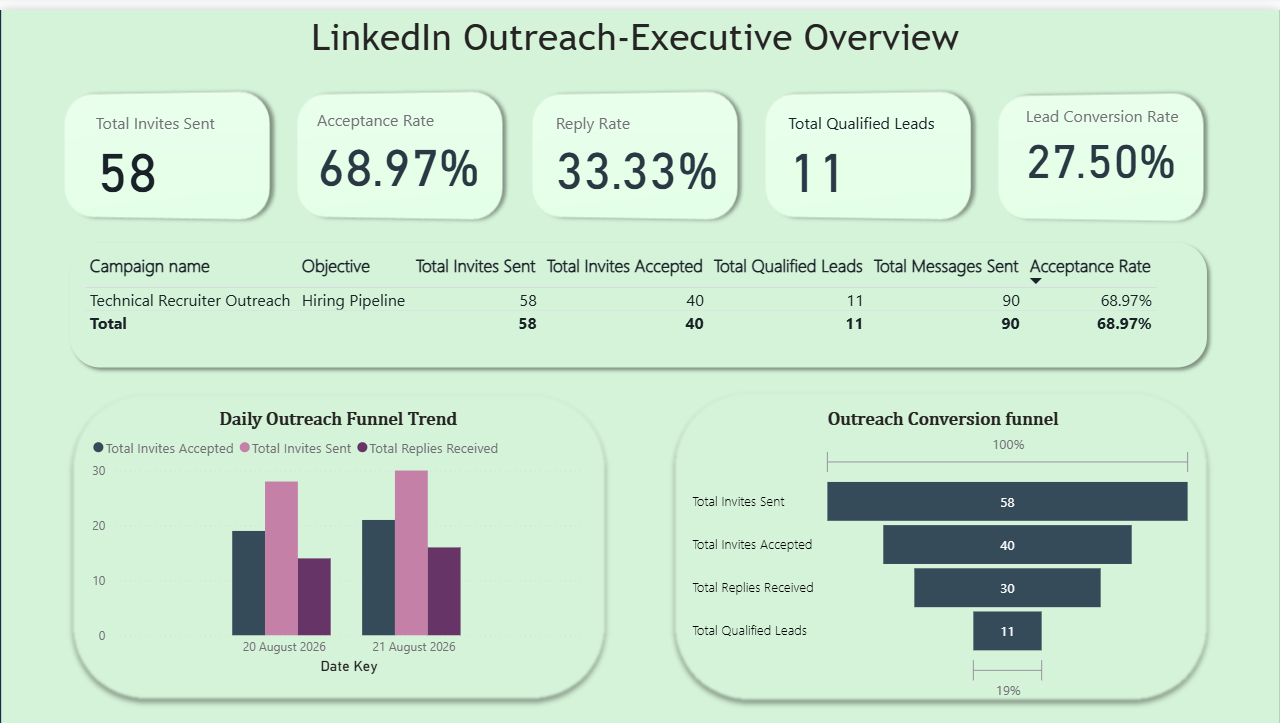

Layout of this report page (visuals, bound fields, positions):
{"tool":"powerbi","page":{"name":"Executive Overview","canvas":[1280,720],"ordinal":0},"visuals":[{"type":"cardVisual","fields":{"Data":["_Measures.Acceptance Rate"]},"box":[300.4,80.8,199.1,115.8],"z":0},{"type":"cardVisual","fields":{"Data":["_Measures.Total Invites Sent"]},"box":[78.4,84.5,172.5,112.2],"z":1000},{"type":"cardVisual","fields":{"Data":["_Measures.Reply Rate"]},"box":[539.3,84.5,197.9,112.2],"z":2000},{"type":"cardVisual","fields":{"Data":["_Measures.Total Qualified Leads"]},"box":[770.9,84.5,199.1,112.2],"z":3000},{"type":"clusteredColumnChart","title":"Daily Outreach Funnel Trend","fields":{"Category":["fact_daily_outreach.date_key"],"Y":["_Measures.Total Invites Accepted","_Measures.Total Invites Sent","_Measures.Total Replies Received"]},"box":[88.1,399.3,500.7,270.2],"z":4000},{"type":"tableEx","fields":{"Values":["dim_campaign.campaign_name","dim_campaign.objective","_Measures.Total Invites Sent","_Measures.Total Invites Accepted","_Measures.Total Qualified Leads","_Measures.Total Messages Sent","_Measures.Acceptance Rate"]},"box":[78.4,238.9,1144.9,112.2],"z":5000},{"type":"funnel","title":"Outreach Conversion funnel","fields":{"Y":["_Measures.Total Invites Sent","_Measures.Total Invites Accepted","_Measures.Total Replies Received","_Measures.Total Qualified Leads"]},"box":[687.7,399.3,510.3,296.8],"z":6000},{"type":"cardVisual","fields":{"Data":["_Measures.Lead Conversion Rate"]},"box":[1008.6,76,189.4,120.6],"z":7000},{"type":"textbox","box":[0,0,1270.4,85.7],"z":8000}]}

Visuals, with their boxes in screenshot pixels (x1, y1, x2, y2), scaled from the page's 1280x720 canvas onto the 1280x723 screenshot:
cardVisual - _Measures.Acceptance Rate: (300,81,500,197)
cardVisual - _Measures.Total Invites Sent: (78,85,251,198)
cardVisual - _Measures.Reply Rate: (539,85,737,198)
cardVisual - _Measures.Total Qualified Leads: (771,85,970,198)
"Daily Outreach Funnel Trend" clusteredColumnChart: (88,401,589,672)
tableEx - dim_campaign.campaign_name x dim_campaign.objective: (78,240,1223,353)
"Outreach Conversion funnel" funnel: (688,401,1198,699)
cardVisual - _Measures.Lead Conversion Rate: (1009,76,1198,197)
textbox: (0,0,1270,86)
